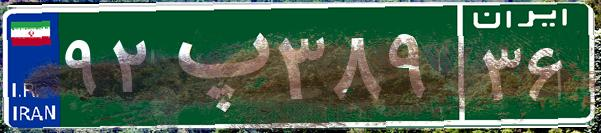2: (110, 28, 158, 105)
3: (273, 28, 330, 110), (475, 38, 525, 113)
6: (525, 38, 570, 115)
8: (330, 28, 385, 110)
9: (385, 28, 445, 110), (57, 26, 110, 107)
پ: (158, 15, 273, 115)
